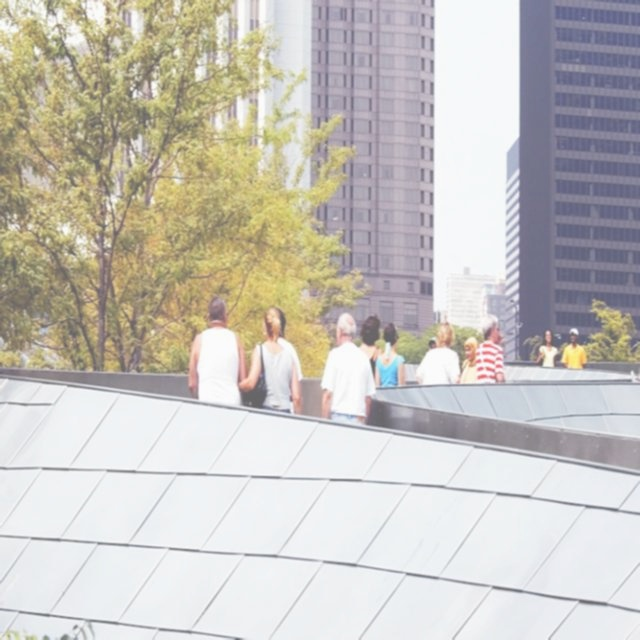pessoa: (236, 304, 304, 416), (187, 295, 249, 407), (319, 312, 377, 426), (276, 310, 304, 415), (416, 320, 460, 386), (474, 313, 507, 385), (376, 323, 408, 387), (356, 314, 384, 380), (558, 326, 588, 371), (458, 335, 480, 385), (535, 328, 559, 368), (426, 334, 440, 351)
